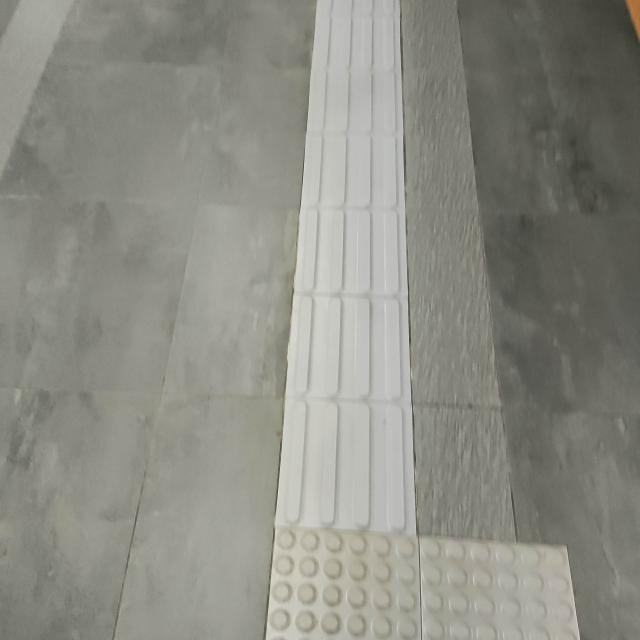lurus: (278, 17, 429, 549)
